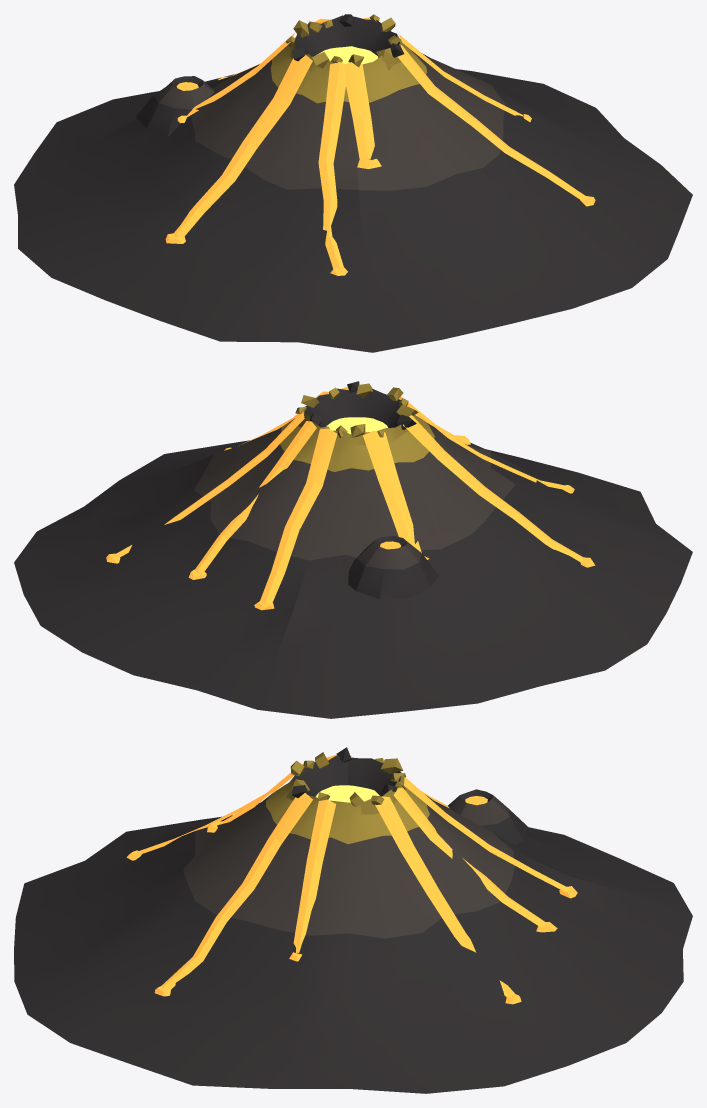
File: volcano.glb
The picture shows the model from 3 angles, top to bottom: view 1: azimuth 30°, elevation 25°; view 2: azimuth 150°, elevation 25°; view 3: azimuth 270°, elevation 25°; orthographic projection. The views are drawn at different scales.
Visible parts, largest first — view 1: volcano; view 2: volcano; view 3: volcano.
Part boxes in pixels (x1,y1,x2,y2): volcano: (14, 14, 692, 352); volcano: (14, 381, 692, 718); volcano: (14, 747, 692, 1093).
Size of the model in its own units: 121 by 34.52 by 118.
